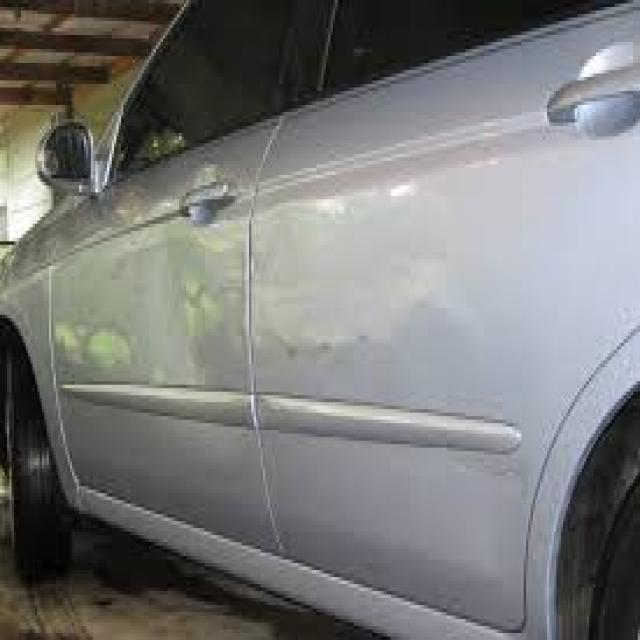minor: (122, 163, 345, 500)
